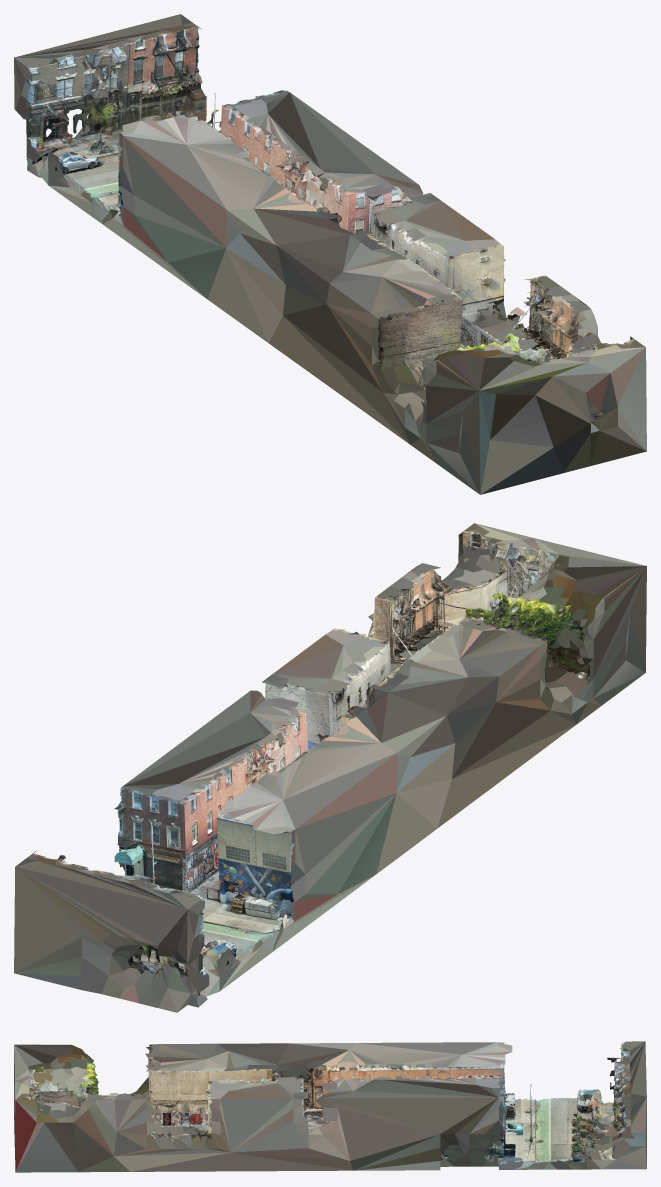
The model's file is sf-freeman-alley-dataset-79e616.glb.
3 views of the same model, one above another, from view 1: azimuth 30°, elevation 25°; view 2: azimuth 150°, elevation 25°; view 3: azimuth 270°, elevation 25° (orthographic). The views are drawn at different scales.
Visible parts, largest first — view 1: 0727_FREEMAN_ALLEY_0727_FREEMAN_ALLEY_u1_v1_0, 0727_FREEMAN_ALLEY_0727_FREEMAN_ALLEY_u1_v2_0, 0727_FREEMAN_ALLEY_0727_FREEMAN_ALLEY_u2_v1_0; view 2: 0727_FREEMAN_ALLEY_0727_FREEMAN_ALLEY_u1_v1_0, 0727_FREEMAN_ALLEY_0727_FREEMAN_ALLEY_u2_v1_0, 0727_FREEMAN_ALLEY_0727_FREEMAN_ALLEY_u1_v2_0; view 3: 0727_FREEMAN_ALLEY_0727_FREEMAN_ALLEY_u1_v1_0, 0727_FREEMAN_ALLEY_0727_FREEMAN_ALLEY_u2_v1_0, 0727_FREEMAN_ALLEY_0727_FREEMAN_ALLEY_u1_v2_0.
Part boxes in pixels (left/top/right/bottom): 0727_FREEMAN_ALLEY_0727_FREEMAN_ALLEY_u1_v1_0: left=14, top=14, right=646, bottom=494; 0727_FREEMAN_ALLEY_0727_FREEMAN_ALLEY_u1_v2_0: left=26, top=37, right=635, bottom=423; 0727_FREEMAN_ALLEY_0727_FREEMAN_ALLEY_u2_v1_0: left=26, top=35, right=603, bottom=416; 0727_FREEMAN_ALLEY_0727_FREEMAN_ALLEY_u1_v1_0: left=14, top=523, right=646, bottom=1012; 0727_FREEMAN_ALLEY_0727_FREEMAN_ALLEY_u2_v1_0: left=36, top=534, right=589, bottom=998; 0727_FREEMAN_ALLEY_0727_FREEMAN_ALLEY_u1_v2_0: left=58, top=529, right=589, bottom=994; 0727_FREEMAN_ALLEY_0727_FREEMAN_ALLEY_u1_v1_0: left=14, top=1041, right=646, bottom=1172; 0727_FREEMAN_ALLEY_0727_FREEMAN_ALLEY_u2_v1_0: left=28, top=1041, right=628, bottom=1160; 0727_FREEMAN_ALLEY_0727_FREEMAN_ALLEY_u1_v2_0: left=23, top=1042, right=629, bottom=1164.
Size of the model in its own units: 18.45 by 10.66 by 82.67.
3 materials, 3 textured.
